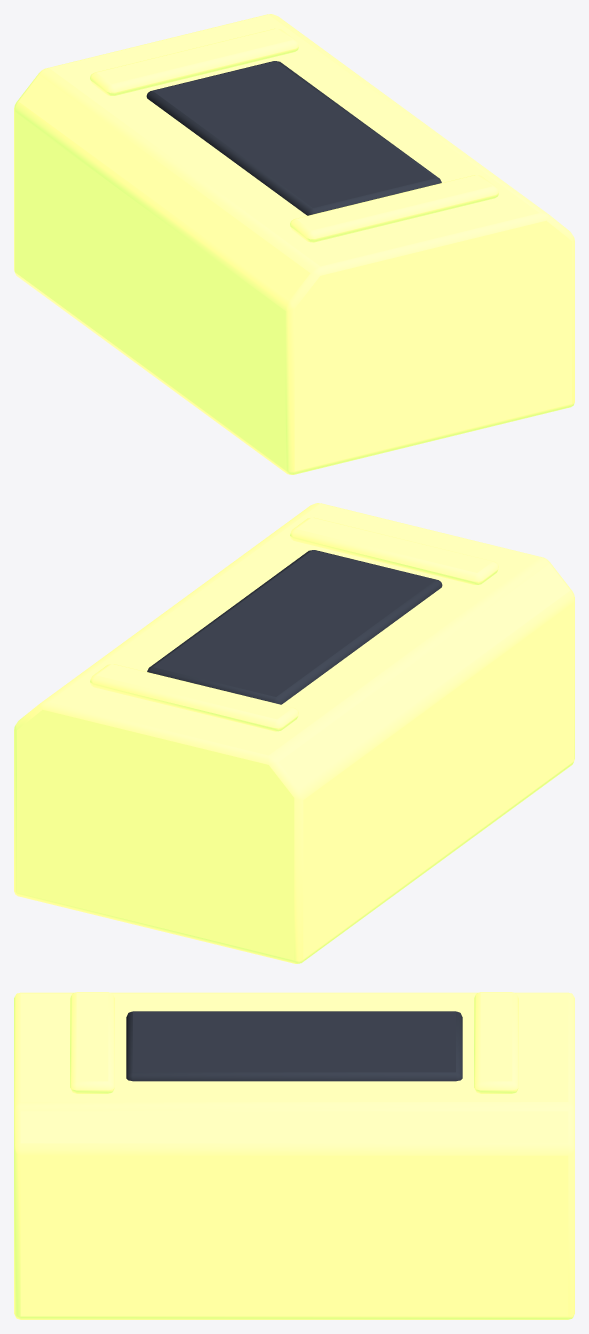
Rendered from ware_pellet.fbx.
3 views of the same model, one above another, from view 1: azimuth 30°, elevation 25°; view 2: azimuth 150°, elevation 25°; view 3: azimuth 270°, elevation 25° (orthographic).
Visible parts, largest first — view 1: ware_pellet_Koerper; view 2: ware_pellet_Koerper; view 3: ware_pellet_Koerper.
Boxes of the visible parts, box(x1,y1,x2,y2) form: ware_pellet_Koerper: box(14, 14, 574, 474); ware_pellet_Koerper: box(14, 503, 574, 963); ware_pellet_Koerper: box(14, 992, 574, 1319).
Size of the model in its own units: 0.3 by 0.211 by 0.5.
